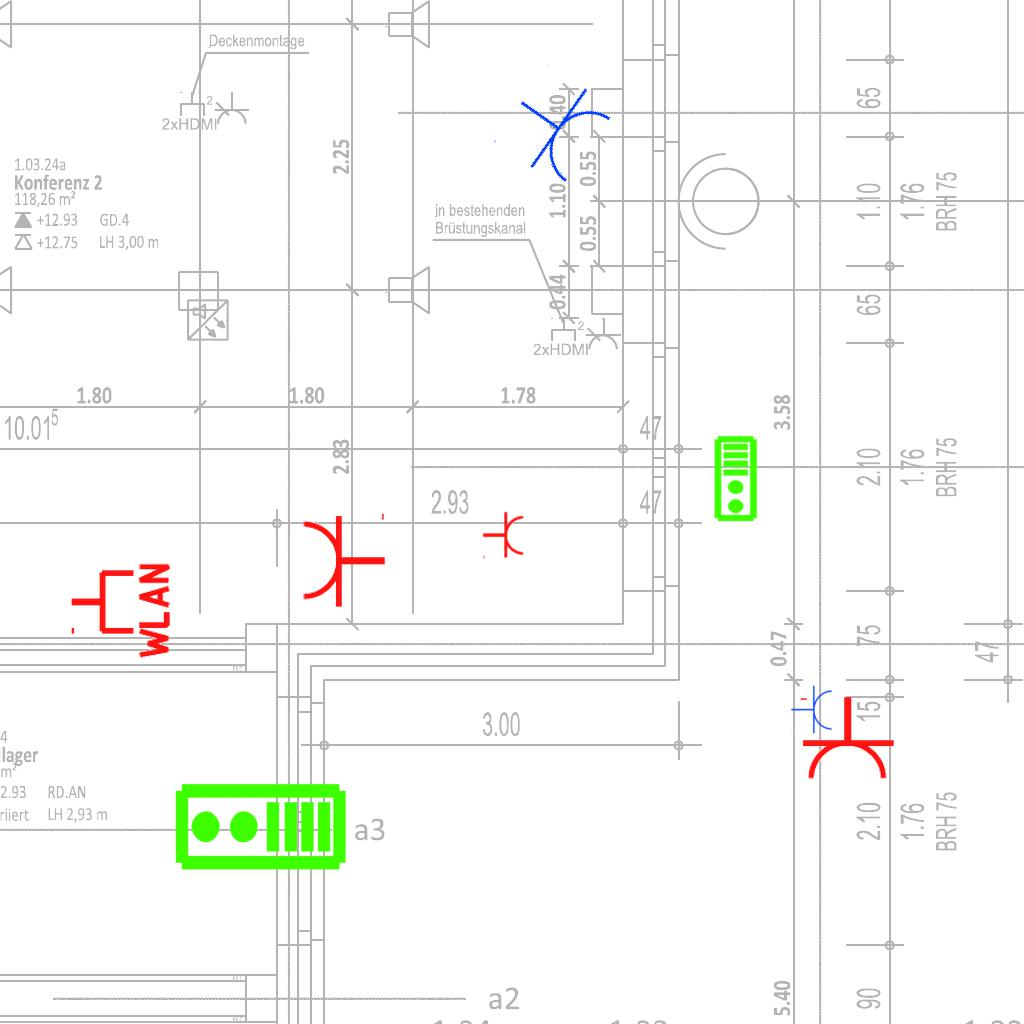Gegensprechanlage_mit_Video: (172, 781, 348, 876), (713, 435, 760, 523)
Schukosteckdose_einfach: (491, 61, 621, 194), (300, 509, 387, 609), (796, 695, 896, 782), (791, 685, 834, 735), (482, 511, 525, 561)
WLAN: (67, 559, 172, 663)
